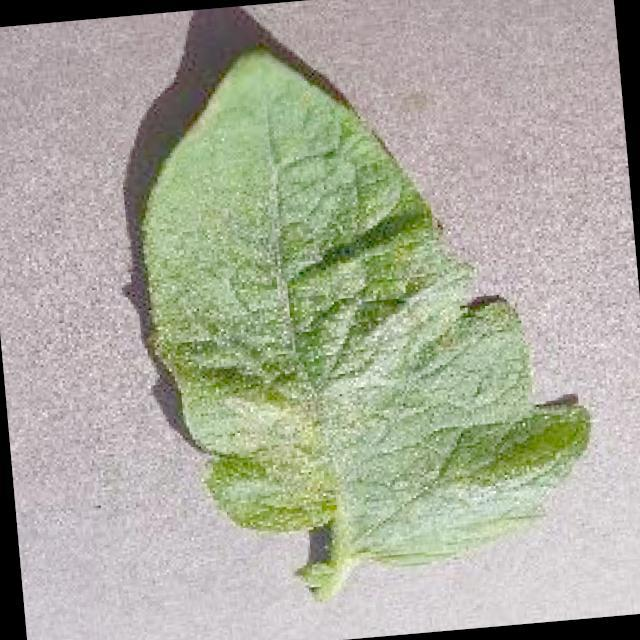Tomato spider mites leaf: (119, 20, 602, 591)
